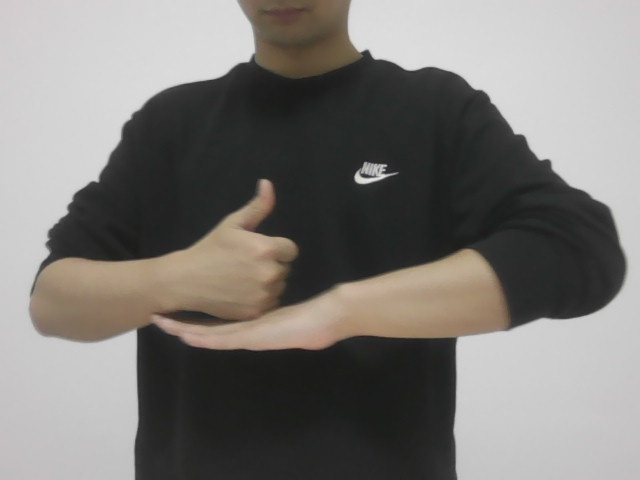new: (145, 171, 349, 359)
